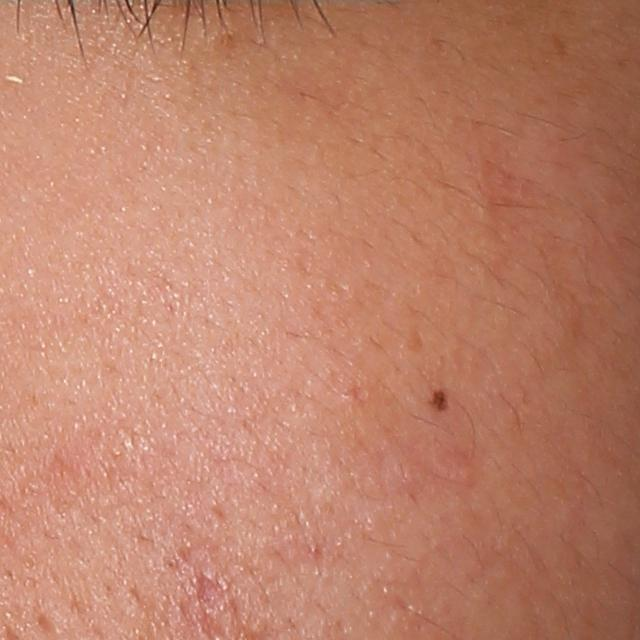atrophic_scar: (34, 609, 63, 638)
melasma: (552, 30, 574, 59)
nevus: (427, 387, 449, 415)
